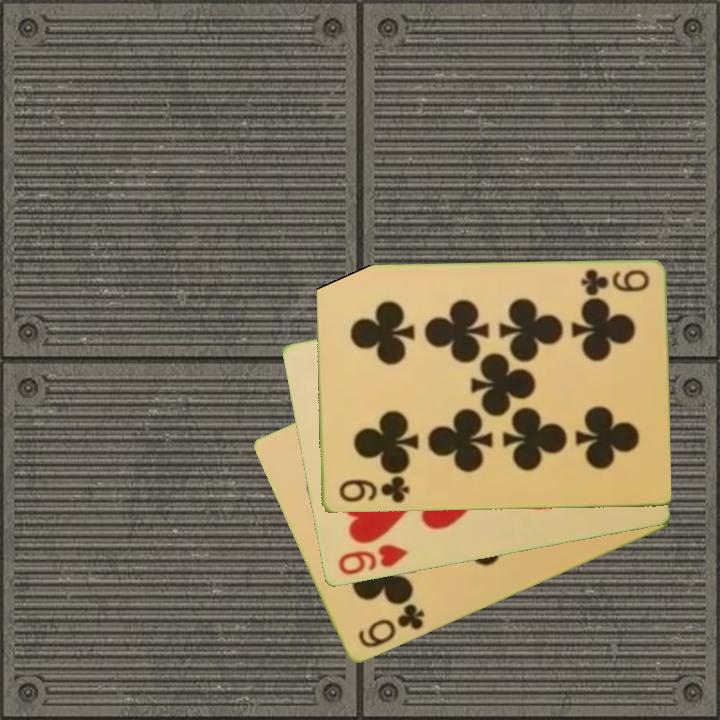6c: (354, 600, 428, 652)
9c: (335, 473, 412, 507), (577, 266, 651, 299)
9h: (334, 541, 411, 578)
